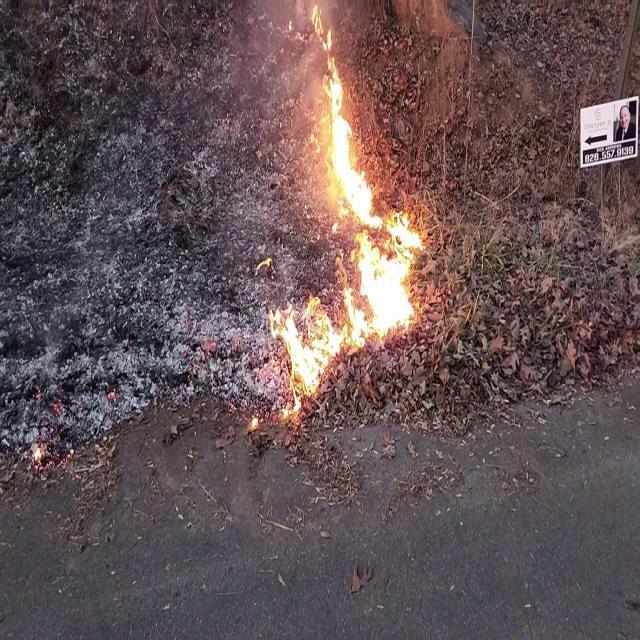Fire: (270, 7, 432, 406)
